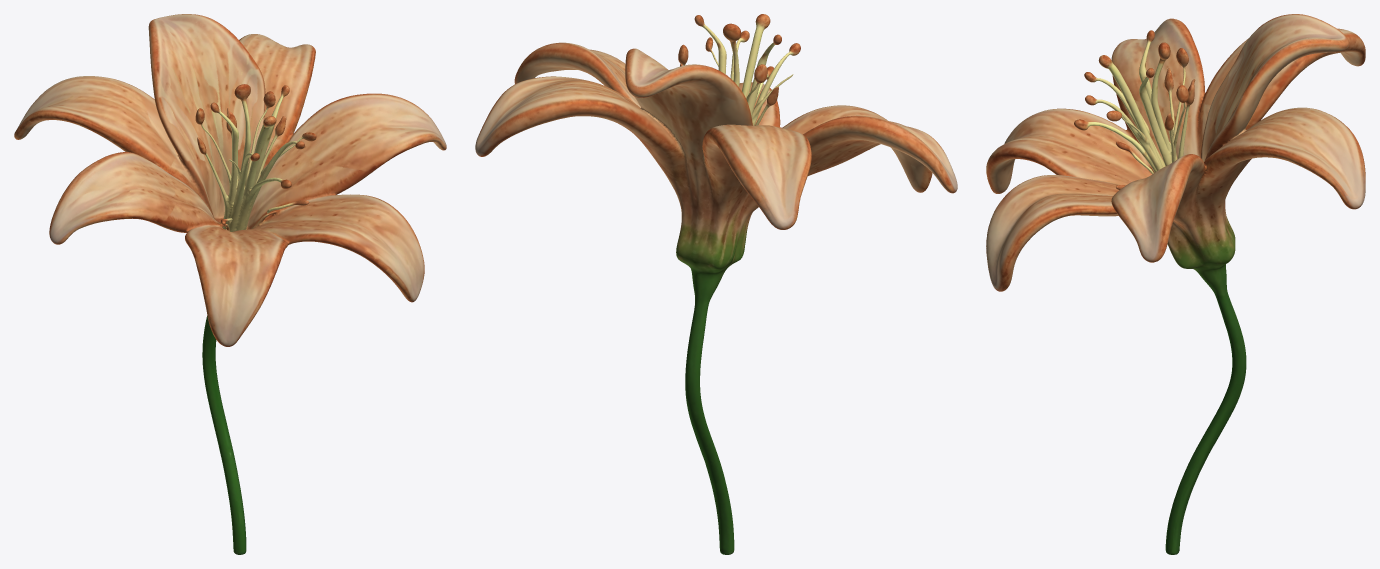
Rendered from lily.glb.
3 renders of one model, left to right at view 1: azimuth 30°, elevation 25°; view 2: azimuth 150°, elevation 25°; view 3: azimuth 270°, elevation 25°, orthographic. The views are drawn at different scales.
Size of the model in its own units: 1.61 by 1.9 by 1.24.
Materials: 1 (1 with a texture image).
